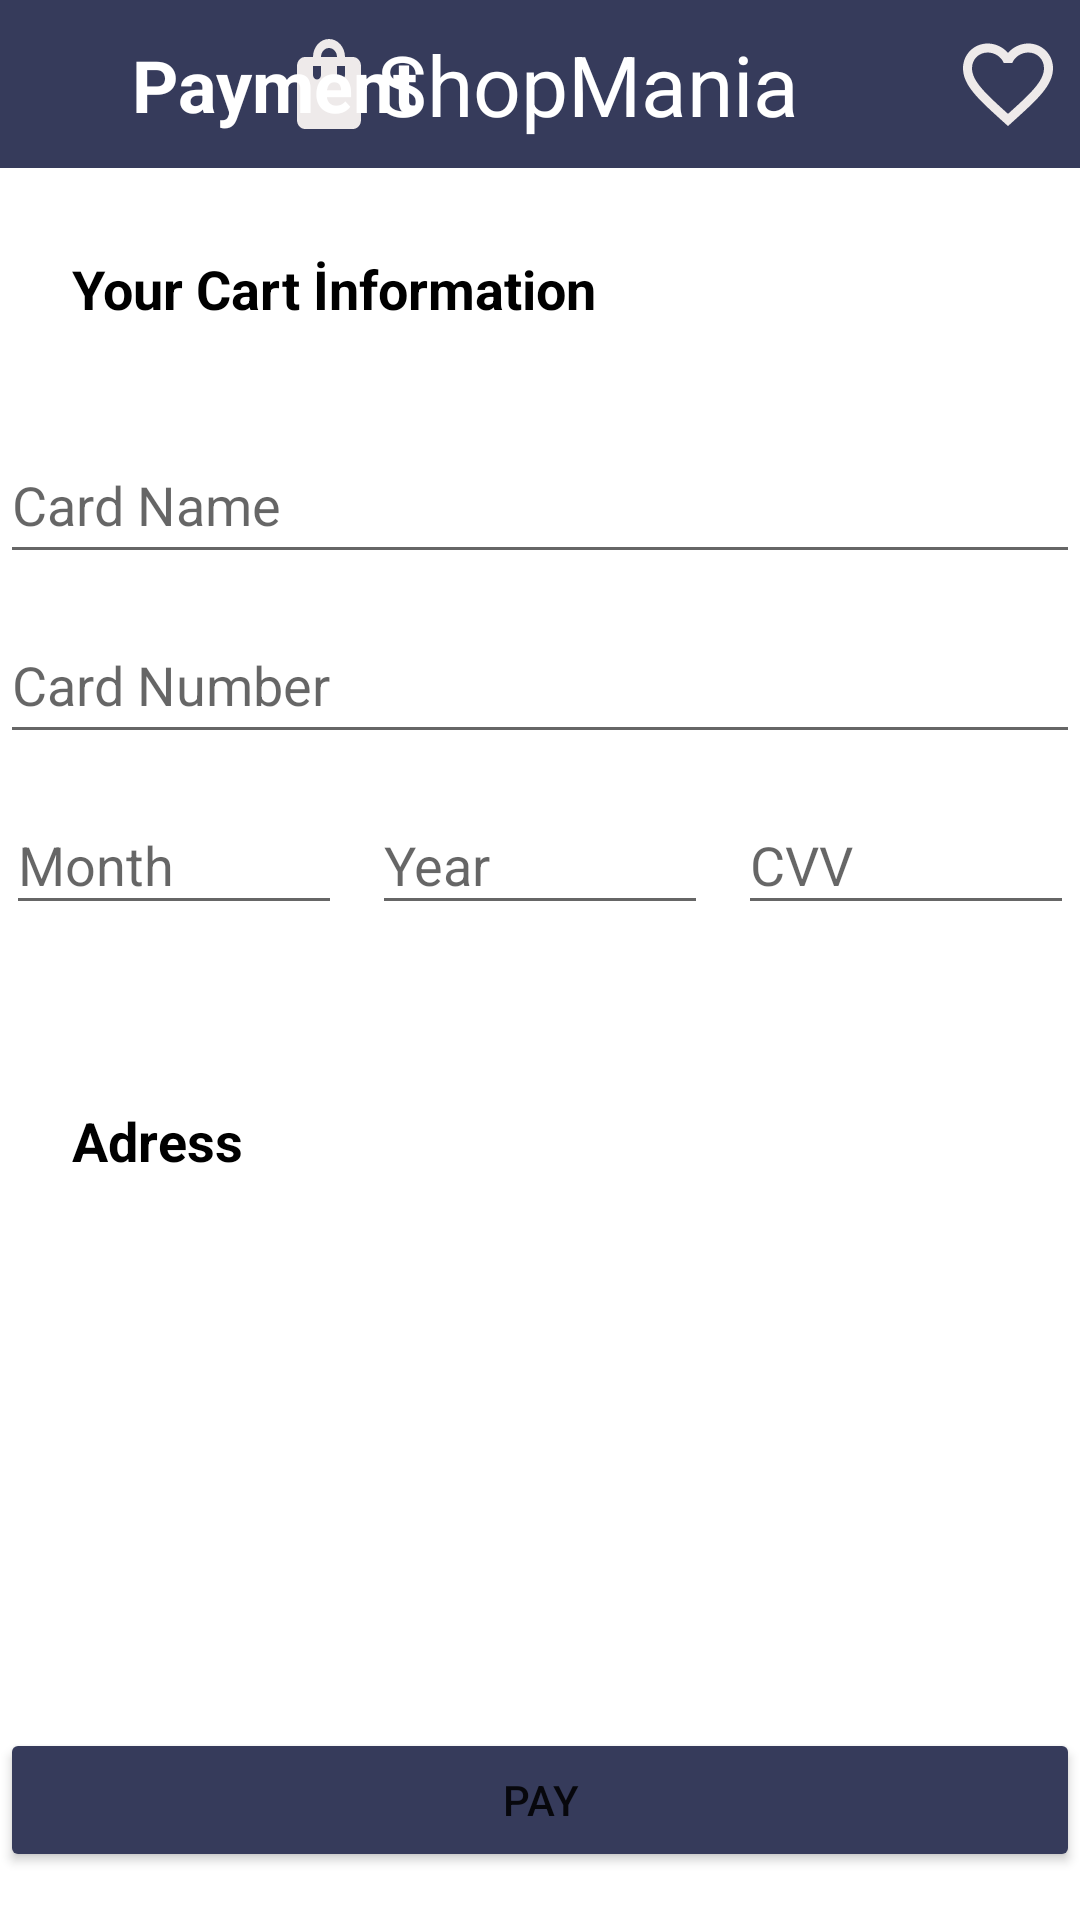

Icons on this 1080*1920 Android screen, each with its box as BBox(x1, y1, x2, y2):
favorite border: BBox(963, 43, 1053, 126)
